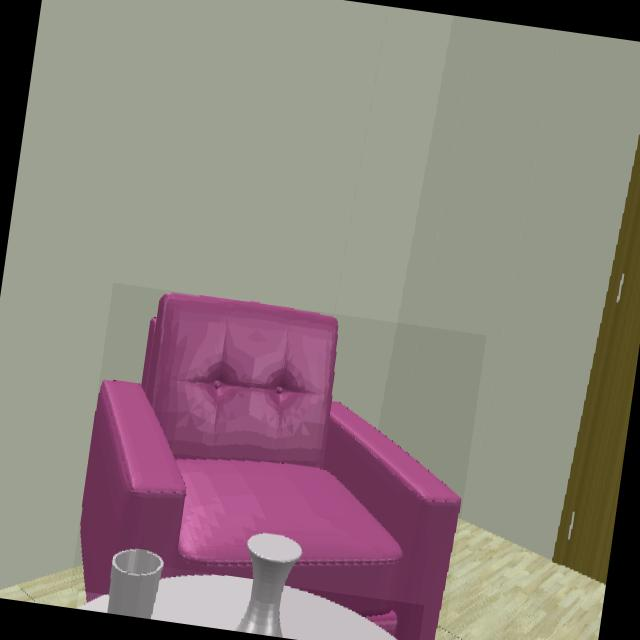sofa: (79, 295, 462, 640)
table: (279, 586, 395, 640), (150, 576, 253, 630), (78, 595, 109, 612)
